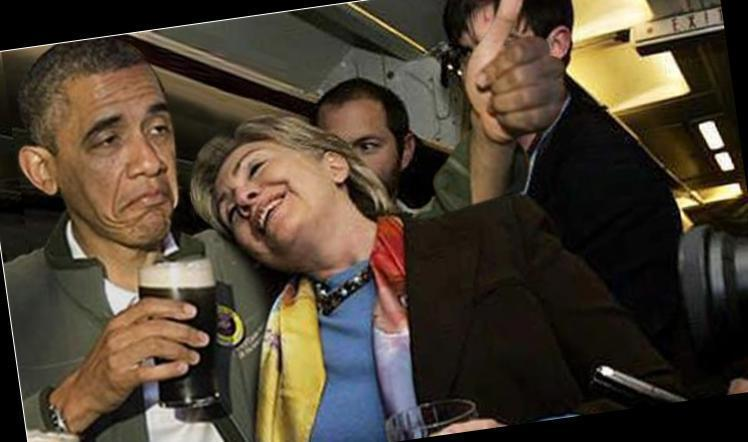Drunk: (60, 60, 178, 249), (216, 140, 329, 262)
